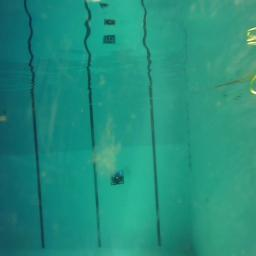front: (110, 169, 125, 186)
